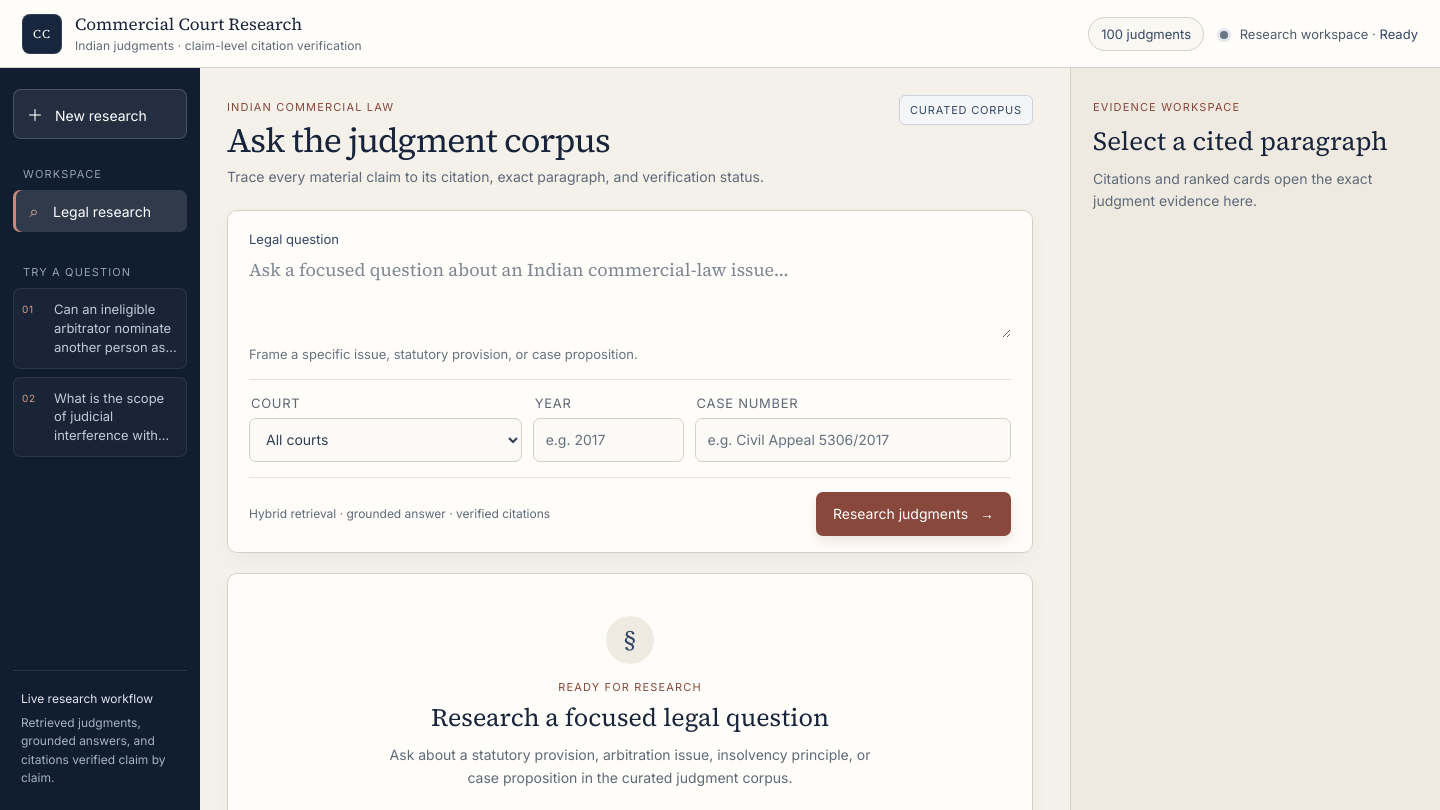
Test: ResearchWorkspace live API boundary › renders a zero-evidence response as an honest no-results state
The image size is (1440, 810).
In the text box labelled "Legal question": [630, 297] box left=249, top=256, right=1011, bottom=338, type "A question outside the pilot corpus"
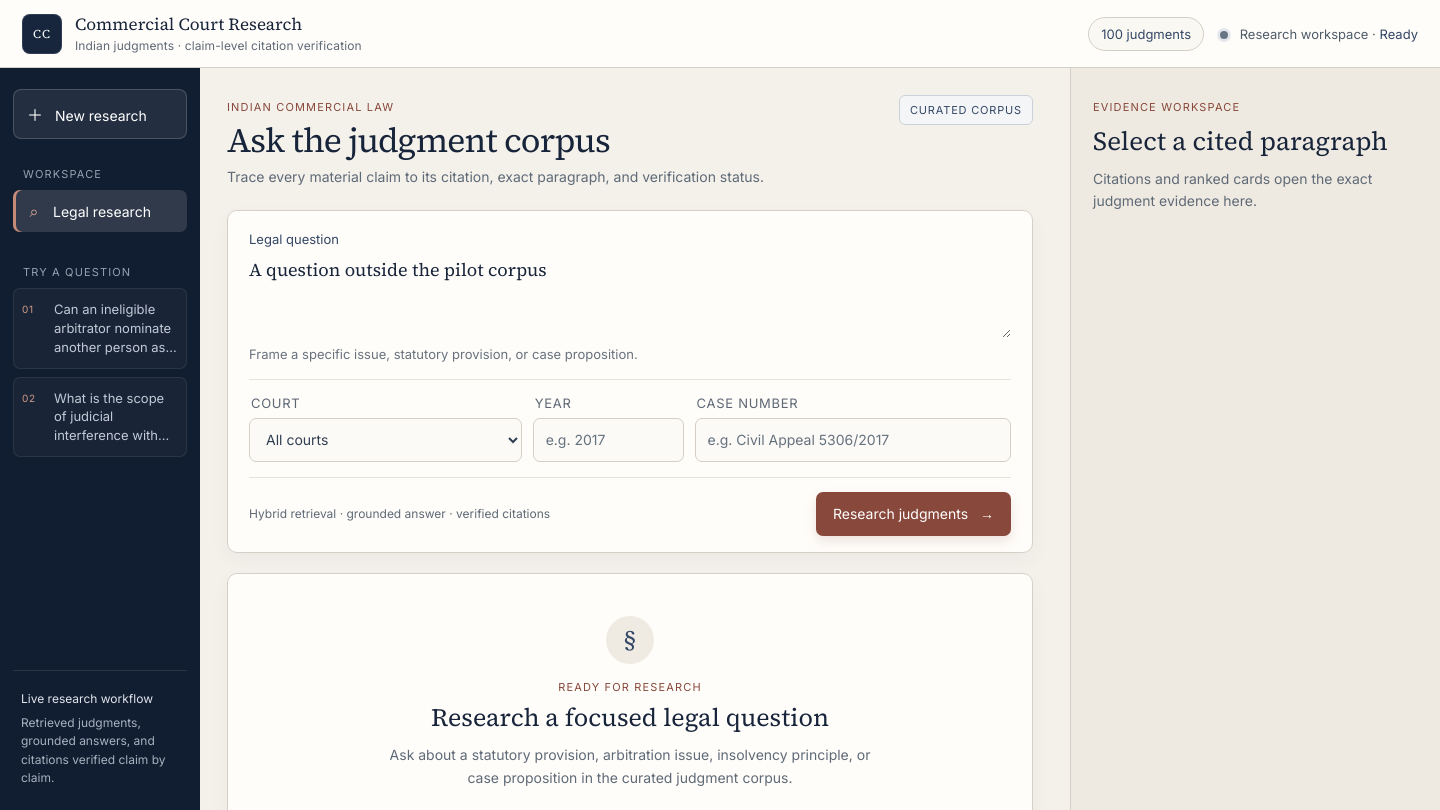
Click the button "Research judgments →": [913, 514] box left=816, top=492, right=1011, bottom=536
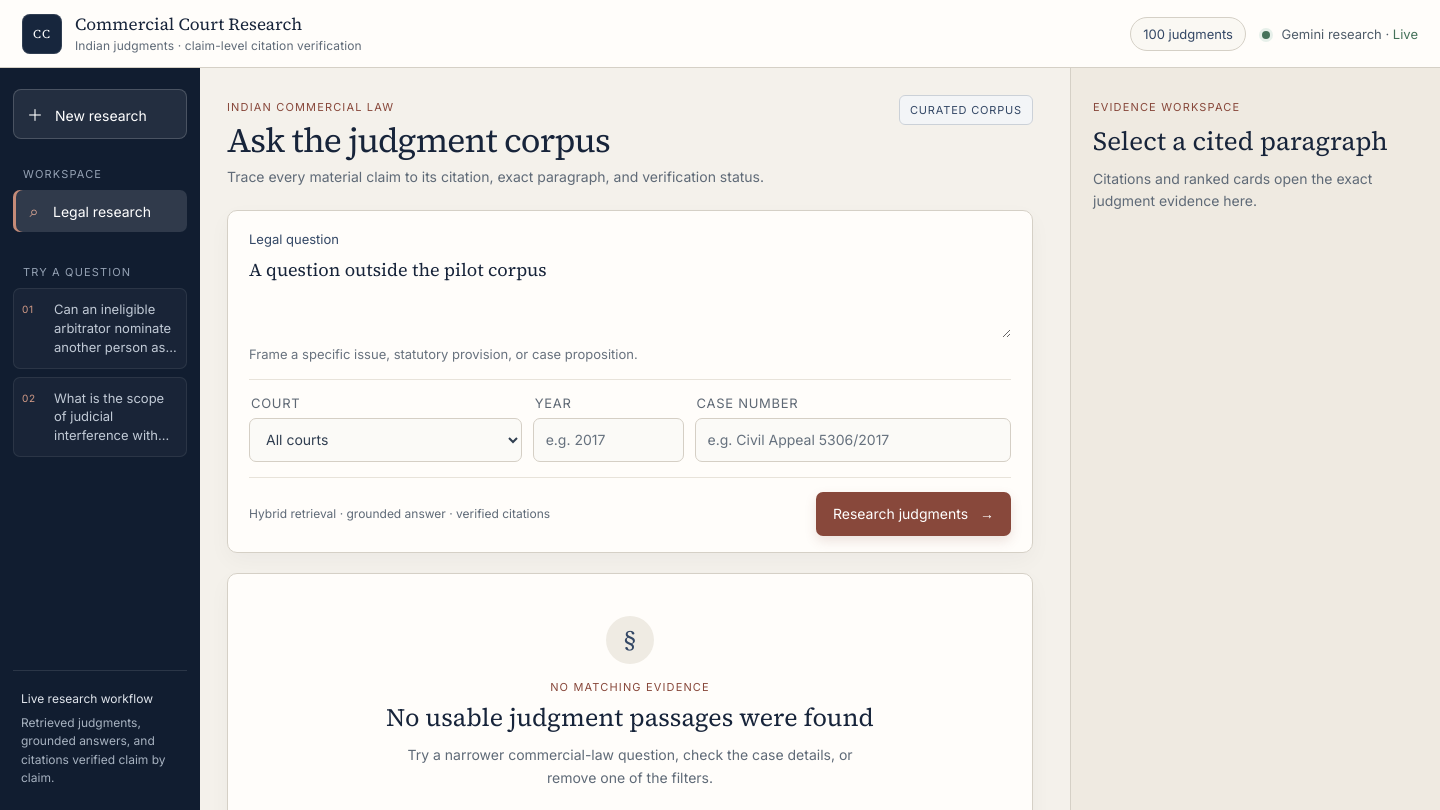
Expected: the heading "No usable judgment passages were found" is shown, left=386, top=701, right=874, bottom=733
